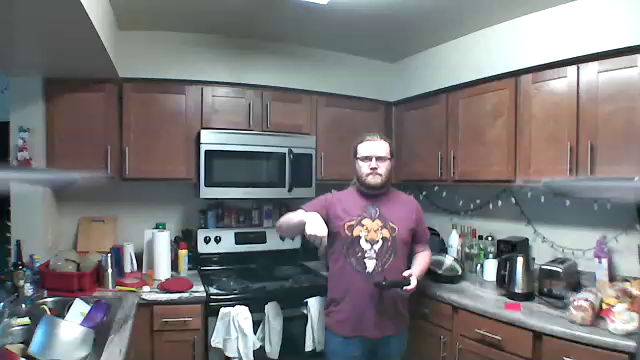down: (299, 209, 328, 256)
